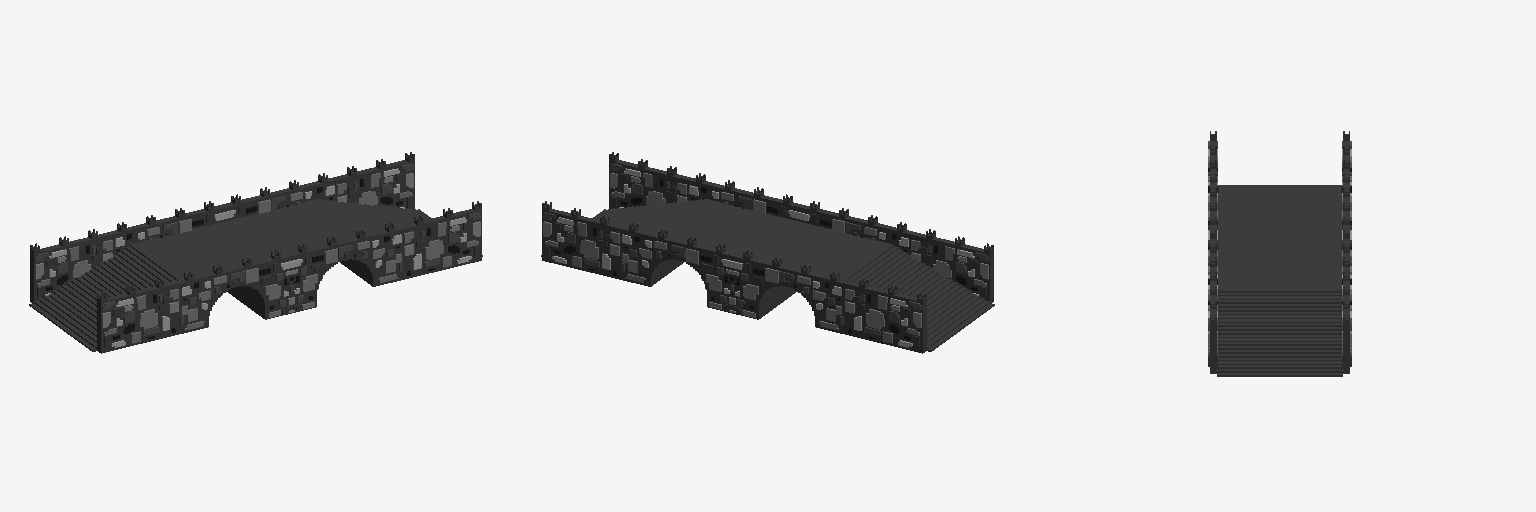
The picture shows the model from 3 angles: view 1: azimuth 30°, elevation 25°; view 2: azimuth 150°, elevation 25°; view 3: azimuth 270°, elevation 25°; orthographic projection.
Parts seen in each view (by area): view 1: object 1; view 2: object 1; view 3: object 1.
Part boxes in pixels (bbox=[...]): object 1: bbox=[29, 152, 482, 353]; object 1: bbox=[541, 152, 994, 353]; object 1: bbox=[1208, 131, 1351, 376].
Size of the model in its own units: 25.6 by 4 by 8.2.
1 materials, 1 textured.